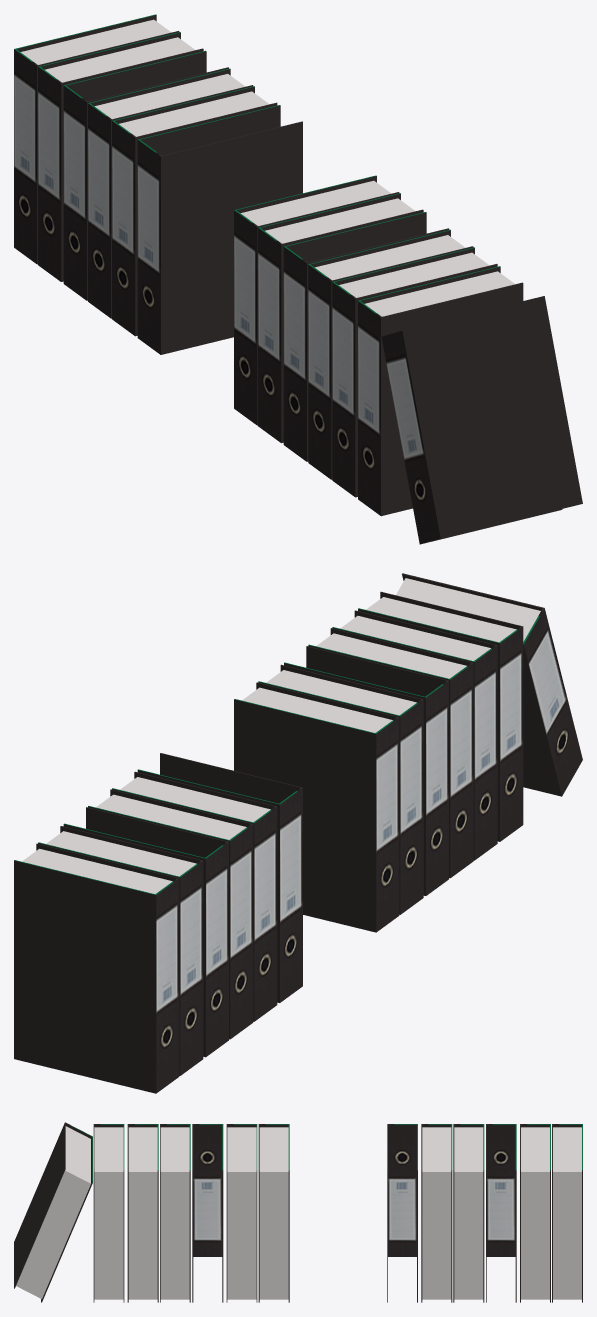
The model's file is Files 1.FBX.
3 views of the same model, one above another, from view 1: azimuth 30°, elevation 25°; view 2: azimuth 150°, elevation 25°; view 3: azimuth 270°, elevation 25° (orthographic). The views are drawn at different scales.
Parts seen in each view (by area): view 1: Files 1; view 2: Files 1; view 3: Files 1.
Part boxes in pixels (box(x1,y1,x2,y2)): Files 1: box(14, 14, 582, 544); Files 1: box(14, 573, 582, 1093); Files 1: box(14, 1122, 582, 1302).
Size of the model in its own units: 181 by 941 by 245.
Materials: 1 (1 with a texture image).
